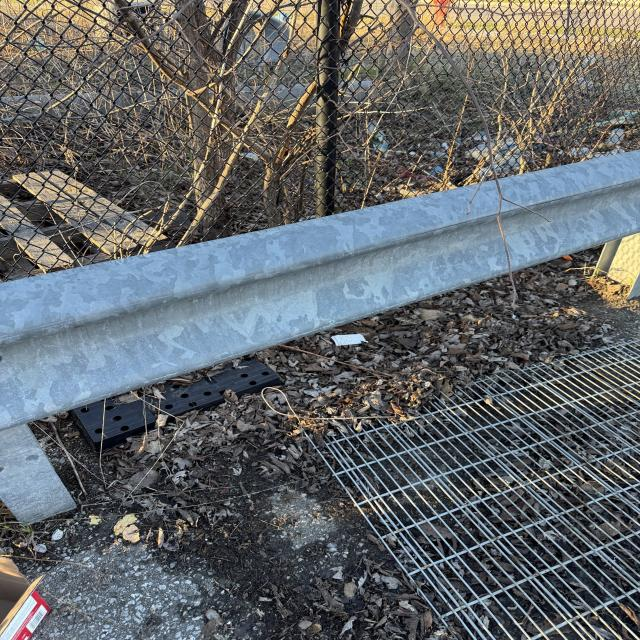Guard rail: (28, 174, 640, 365)
